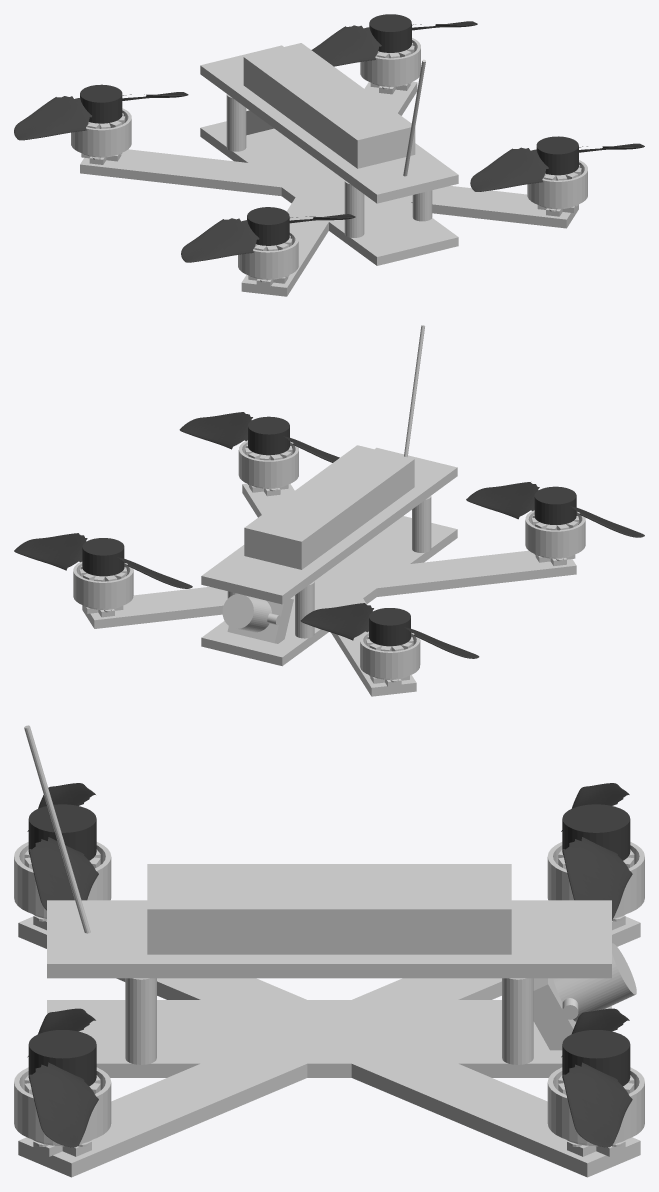
File: hq-51mm-whoop.glb
The picture shows the model from 3 angles, top to bottom: view 1: azimuth 30°, elevation 25°; view 2: azimuth 150°, elevation 25°; view 3: azimuth 270°, elevation 25°; orthographic projection. The views are drawn at different scales.
Visible parts, largest first — view 1: battery, frame_bottom, frame_top, arm3, prop4, prop2, prop3, arm2, prop1, arm4, motor3, motor4 (+8 smaller); view 2: battery, frame_bottom, frame_top, arm4, arm1, prop1, prop4, prop3, prop2, camera, motor1, motor4 (+7 smaller); view 3: battery, frame_bottom, frame_top, arm1, arm2, prop1, prop2, prop3, prop4, camera, motor1, motor2 (+7 smaller).
Boxes of the visible parts, x1=… form: battery: x1=243, y1=43, x2=415, y2=168; frame_bottom: x1=200, y1=121, x2=458, y2=265; frame_top: x1=200, y1=45, x2=458, y2=203; arm3: x1=80, y1=149, x2=336, y2=196; prop4: x1=181, y1=207, x2=355, y2=262; prop2: x1=470, y1=136, x2=644, y2=191; prop3: x1=14, y1=84, x2=188, y2=140; arm2: x1=308, y1=176, x2=578, y2=228; prop1: x1=311, y1=14, x2=477, y2=66; arm4: x1=241, y1=177, x2=344, y2=296; motor3: x1=71, y1=108, x2=131, y2=164; motor4: x1=238, y1=231, x2=298, y2=287; battery: x1=244, y1=445, x2=414, y2=569; frame_bottom: x1=201, y1=516, x2=457, y2=666; frame_top: x1=201, y1=447, x2=457, y2=604; arm4: x1=314, y1=550, x2=576, y2=596; arm1: x1=82, y1=582, x2=350, y2=628; prop1: x1=14, y1=533, x2=192, y2=588; prop4: x1=466, y1=482, x2=644, y2=537; prop3: x1=300, y1=603, x2=479, y2=658; prop2: x1=179, y1=412, x2=339, y2=462; camera: x1=222, y1=593, x2=293, y2=643; motor1: x1=73, y1=562, x2=133, y2=617; motor4: x1=525, y1=510, x2=585, y2=565; battery: x1=147, y1=864, x2=511, y2=954; frame_bottom: x1=47, y1=1000, x2=611, y2=1077; frame_top: x1=47, y1=900, x2=611, y2=978; arm1: x1=285, y1=1032, x2=640, y2=1177; arm2: x1=18, y1=1030, x2=373, y2=1177; prop1: x1=561, y1=1008, x2=632, y2=1147; prop2: x1=27, y1=1008, x2=98, y2=1147; prop3: x1=561, y1=783, x2=632, y2=919; prop4: x1=27, y1=783, x2=98, y2=910; camera: x1=533, y1=943, x2=636, y2=1050; motor1: x1=547, y1=1067, x2=644, y2=1156; motor2: x1=14, y1=1067, x2=111, y2=1156.
Bounding box in the file's own units: 136 × 56.7 × 100.
Materials: 1 (1 with a texture image).
